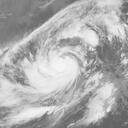cyclone: (23, 44, 82, 94)
